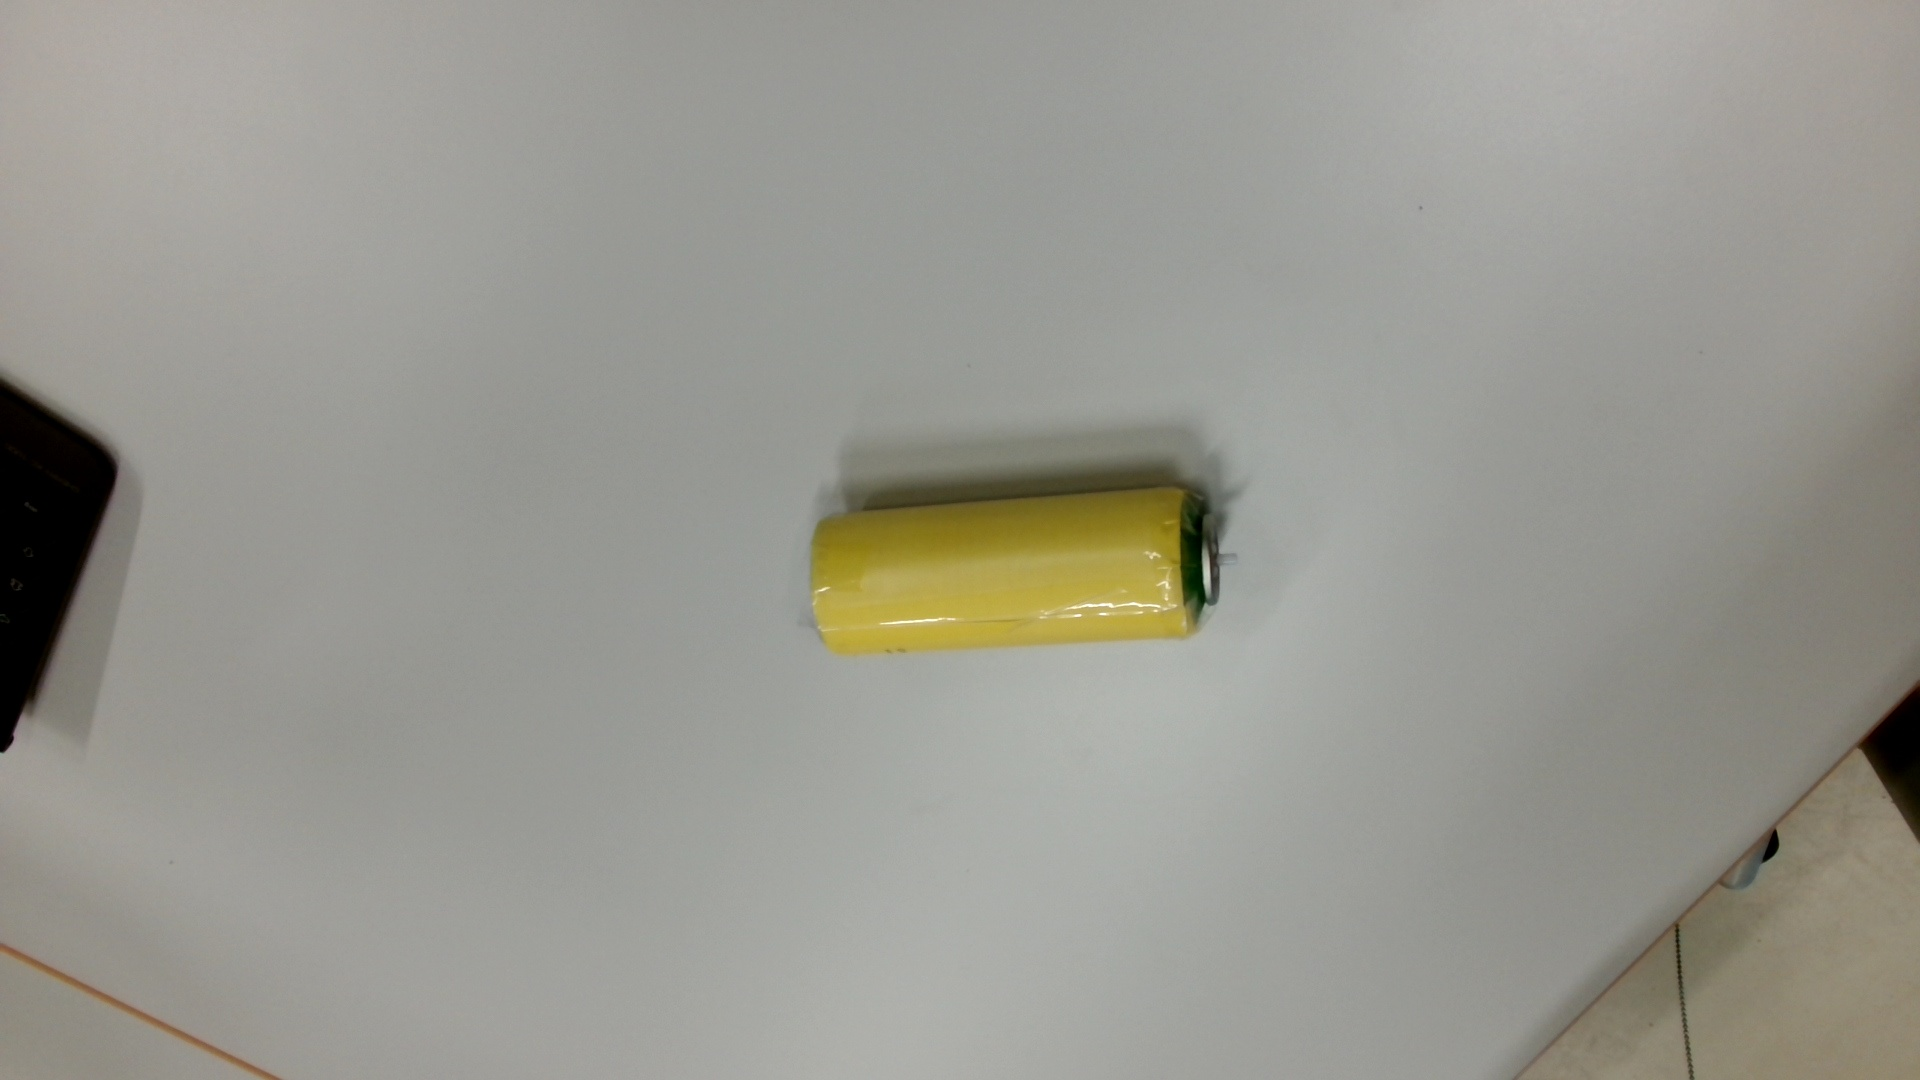Cylinder: (804, 477, 1253, 669)
